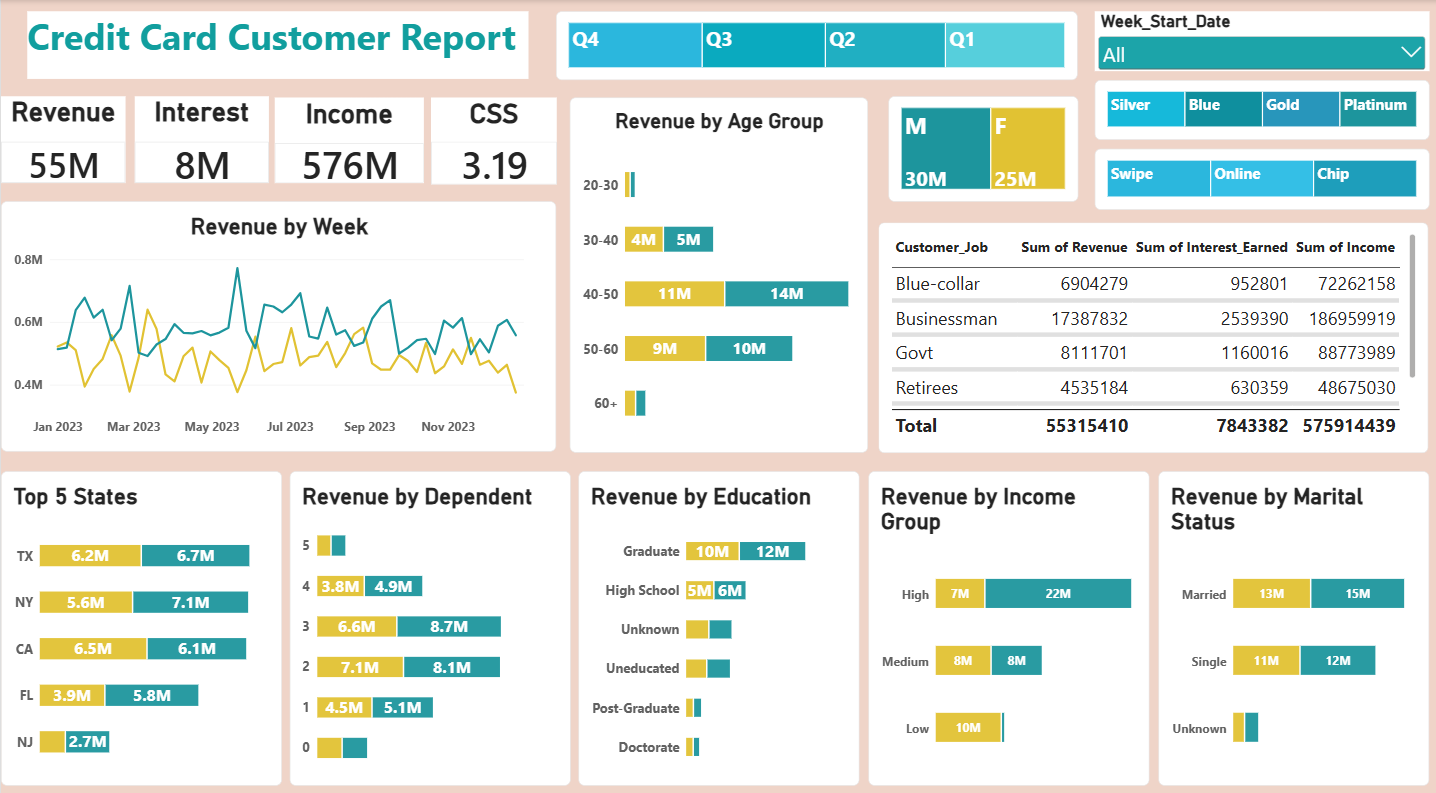

This screenshot's page, from the dashboard's own definition file:
{"tool":"powerbi","page":{"name":"CC Customer","canvas":[1920,1080],"ordinal":1},"visuals":[{"type":"textbox","box":[34.4,14.5,669.6,90.5],"z":0},{"type":"barChart","title":"Revenue by Income Group","fields":{"Category":["Customer.IncomeGroup"],"Series":["Customer.Gender"],"Y":["Sum(Credit_card.Revenue)"]},"box":[1158.2,629.8,375,420],"z":1000},{"type":"barChart","title":"Revenue by Dependent","fields":{"Category":["Customer.Dependent_Count"],"Series":["Customer.Gender"],"Y":["Sum(Credit_card.Revenue)"]},"box":[385.5,629.8,375,420],"z":2000},{"type":"tableEx","fields":{"Values":["Customer.Customer_Job","Sum(Credit_card.Revenue)","Sum(Credit_card.Interest_Earned)","Sum(Customer.Income)"]},"box":[1172.7,296.8,734.7,307.6],"z":3000},{"type":"cardVisual","title":"Revenue","fields":{"Data":["Sum(Credit_card.Revenue)"]},"box":[0,128.5,166.5,115.8],"z":4000},{"type":"cardVisual","title":"Interest","fields":{"Data":["Sum(Credit_card.Interest_Earned)"]},"box":[179.2,128.5,179.2,115.8],"z":5000},{"type":"cardVisual","title":"Income","fields":{"Data":["Sum(Customer.Income)"]},"box":[365.6,130.3,199.1,114],"z":6000},{"type":"cardVisual","title":"CSS","fields":{"Data":["Avg(Customer.Cust_Satisfaction_Score)"]},"box":[573.7,130.3,168.3,115.8],"z":7000},{"type":"slicer","fields":{"Values":["Credit_card.Week_Start_Date"]},"box":[1460.4,14.5,447,79.6],"z":8000},{"type":"treemap","fields":{"Group":["Credit_card.Qtr"],"Values":["Avg(Credit_card.Client_Num)"]},"box":[742,14.5,696.7,92.3],"z":9000},{"type":"treemap","fields":{"Group":["Credit_card.Card_Category"],"Values":["Avg(Credit_card.Client_Num)"]},"box":[1460.4,106.8,447,79.6],"z":10000},{"type":"lineChart","title":"Revenue by Week","fields":{"Category":["Credit_card.Week_Start_Date.Variation.Date Hierarchy.Year","Credit_card.Week_Start_Date.Variation.Date Hierarchy.Month","Credit_card.Week_Start_Date.Variation.Date Hierarchy.Day"],"Series":["Customer.Gender"],"Y":["Sum(Credit_card.Revenue)"]},"box":[0,269.6,742,334.8],"z":11000},{"type":"treemap","fields":{"Group":["Customer.Gender"],"Values":["Sum(Credit_card.Revenue)"]},"box":[1185.3,128.5,253.4,141.2],"z":12000},{"type":"barChart","title":"Revenue by Age Group","fields":{"Category":["Customer.AgeGroup"],"Series":["Customer.Gender"],"Y":["Sum(Credit_card.Revenue)"]},"box":[760.1,130.3,398.1,474.1],"z":13000},{"type":"barChart","title":"Revenue by Education","fields":{"Category":["Customer.Education_Level"],"Series":["Customer.Gender"],"Y":["Sum(Credit_card.Revenue)"]},"box":[770.9,629.8,375,420],"z":14000},{"type":"barChart","title":"Top 5 States","fields":{"Category":["Customer.state_cd"],"Series":["Customer.Gender"],"Y":["Sum(Credit_card.Revenue)"]},"box":[0,629.8,375,420],"z":15000},{"type":"barChart","title":"Revenue by Marital Status","fields":{"Category":["Customer.Marital_Status"],"Series":["Customer.Gender"],"Y":["Sum(Credit_card.Revenue)"]},"box":[1545.5,629.8,361.9,419.8],"z":16000},{"type":"treemap","fields":{"Group":["Credit_card.Use Chip"],"Values":["Avg(Credit_card.Client_Num)"]},"box":[1460.4,199.1,447,81.4],"z":17000}]}

Visuals, with their boxes in screenshot pixels (x1, y1, x2, y2), scaled from the page's 1920x1080 canvas onto the 1436x793 screenshot:
textbox: region(26, 11, 527, 77)
"Revenue by Income Group" barChart: region(866, 462, 1147, 771)
"Revenue by Dependent" barChart: region(288, 462, 569, 771)
tableEx - Customer.Customer_Job x Sum(Credit_card.Revenue): region(877, 218, 1427, 444)
"Revenue" cardVisual: region(0, 94, 125, 179)
"Interest" cardVisual: region(134, 94, 268, 179)
"Income" cardVisual: region(273, 96, 422, 179)
"CSS" cardVisual: region(429, 96, 555, 181)
slicer - Credit_card.Week_Start_Date: region(1092, 11, 1427, 69)
treemap - Credit_card.Qtr x Avg(Credit_card.Client_Num): region(555, 11, 1076, 78)
treemap - Credit_card.Card_Category x Avg(Credit_card.Client_Num): region(1092, 78, 1427, 137)
"Revenue by Week" lineChart: region(0, 198, 555, 444)
treemap - Customer.Gender x Sum(Credit_card.Revenue): region(887, 94, 1076, 198)
"Revenue by Age Group" barChart: region(568, 96, 866, 444)
"Revenue by Education" barChart: region(577, 462, 857, 771)
"Top 5 States" barChart: region(0, 462, 280, 771)
"Revenue by Marital Status" barChart: region(1156, 462, 1427, 771)
treemap - Credit_card.Use Chip x Avg(Credit_card.Client_Num): region(1092, 146, 1427, 206)
